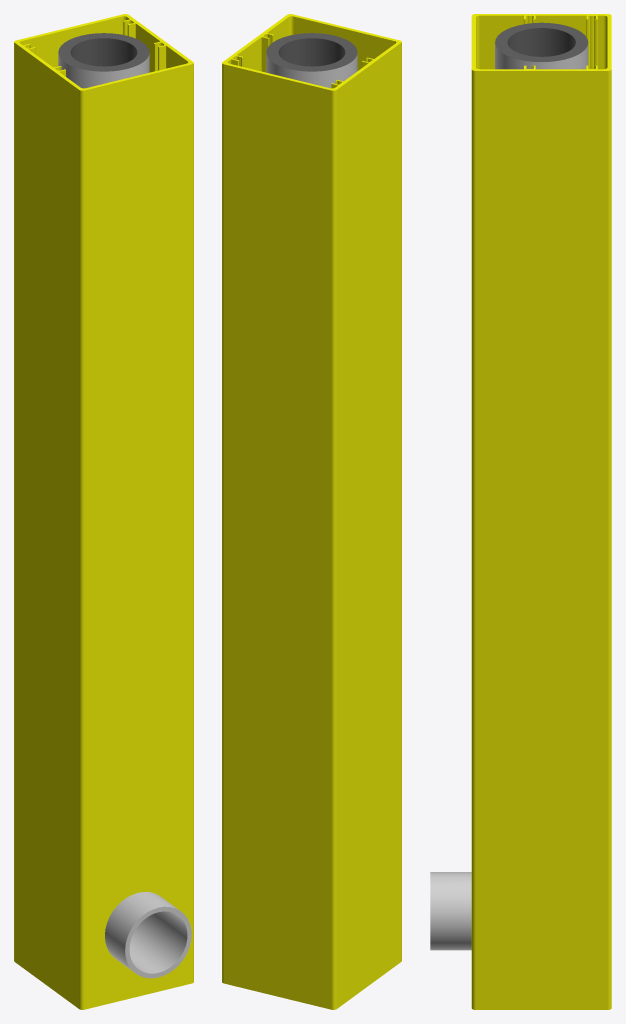
Rendered from postRohr.glb.
The picture shows the model from 3 angles, left to right: view 1: azimuth 30°, elevation 25°; view 2: azimuth 150°, elevation 25°; view 3: azimuth 270°, elevation 25°; orthographic projection. The views are drawn at different scales.
Visible parts, largest first — view 1: Pfosten_Premium_mit_Rohr1, OD_76_mm_ID_66_mm; view 2: Pfosten_Premium_mit_Rohr1, OD_76_mm_ID_66_mm; view 3: Pfosten_Premium_mit_Rohr1, OD_76_mm_ID_66_mm.
Part boxes in pixels (left/top/right/bottom): Pfosten_Premium_mit_Rohr1: left=14, top=14, right=193, bottom=1009; OD_76_mm_ID_66_mm: left=58, top=33, right=191, bottom=978; Pfosten_Premium_mit_Rohr1: left=222, top=14, right=401, bottom=1009; OD_76_mm_ID_66_mm: left=266, top=33, right=357, bottom=88; Pfosten_Premium_mit_Rohr1: left=471, top=14, right=611, bottom=1009; OD_76_mm_ID_66_mm: left=430, top=22, right=588, bottom=950.
Size of the model in its own units: 0.13 by 1 by 0.175.
Materials: 3 (1 with a texture image).
